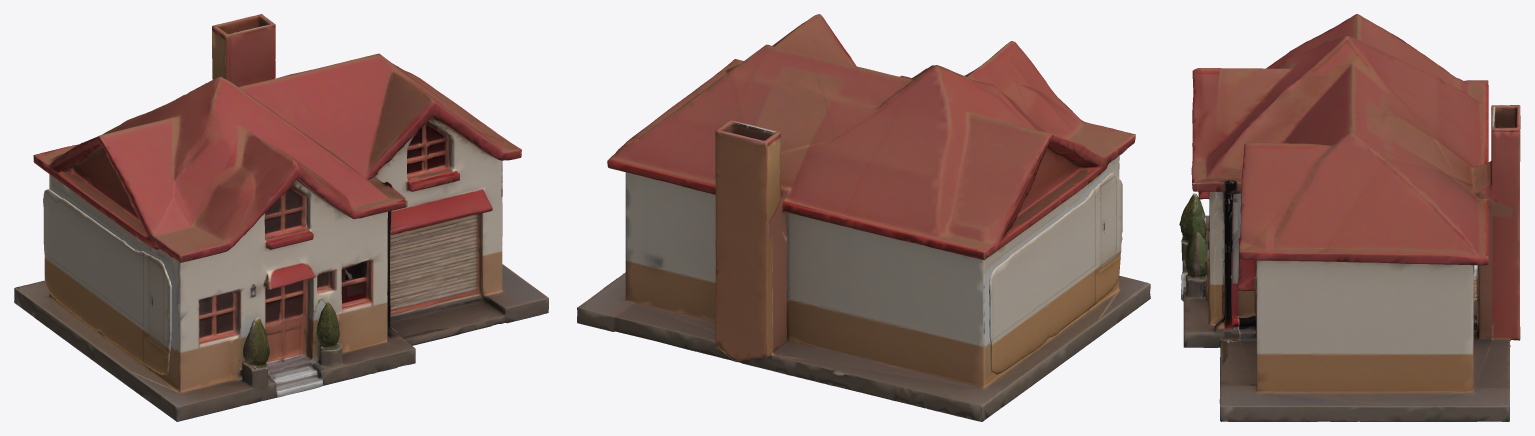
File: Red_Roof_House_low_p_0901141127_texture.glb
3 views of the same model, side by side, from view 1: azimuth 30°, elevation 25°; view 2: azimuth 150°, elevation 25°; view 3: azimuth 270°, elevation 25° (orthographic). The views are drawn at different scales.
Size of the model in its own units: 1.86 by 1.16 by 1.4.
1 material, 1 textured.
